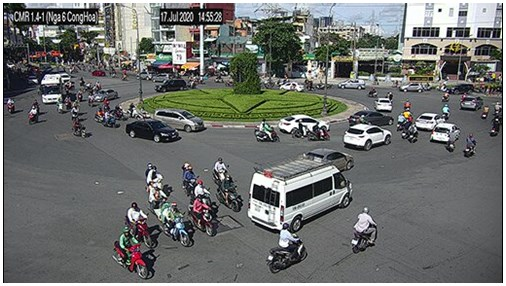xe_buyt: (41, 72, 63, 102)
xe_hoi: (343, 124, 392, 151), (126, 119, 180, 143), (155, 109, 204, 133), (308, 148, 353, 170), (279, 114, 330, 133), (430, 121, 460, 144), (416, 113, 444, 131), (155, 80, 185, 92), (458, 96, 482, 111), (446, 83, 475, 94), (94, 88, 118, 101), (337, 78, 365, 89), (279, 82, 305, 92), (399, 82, 424, 92), (152, 72, 172, 82), (137, 70, 155, 80)
xe_khach: (249, 158, 351, 233)
xe_may: (268, 221, 307, 277), (112, 226, 148, 279), (161, 202, 191, 248), (126, 202, 153, 248), (352, 206, 376, 255), (188, 195, 214, 237), (145, 161, 168, 202), (195, 180, 218, 220), (217, 174, 240, 213), (147, 182, 171, 216), (254, 119, 279, 142), (183, 162, 198, 198), (212, 156, 228, 187), (311, 122, 330, 143), (292, 120, 311, 140), (464, 132, 477, 159), (72, 117, 86, 140), (488, 118, 500, 138), (102, 110, 115, 128), (440, 103, 451, 124), (408, 123, 418, 144), (113, 104, 125, 121), (127, 101, 138, 119), (480, 103, 491, 121), (95, 106, 105, 124), (396, 112, 406, 130), (404, 106, 413, 126), (29, 106, 38, 125), (138, 107, 151, 120), (494, 100, 503, 118), (403, 119, 411, 139), (449, 128, 455, 153), (385, 90, 394, 106), (367, 87, 379, 99), (56, 97, 64, 114), (7, 97, 13, 117), (64, 94, 71, 111), (87, 92, 94, 107), (71, 106, 79, 119), (78, 87, 84, 103), (442, 90, 449, 102)
